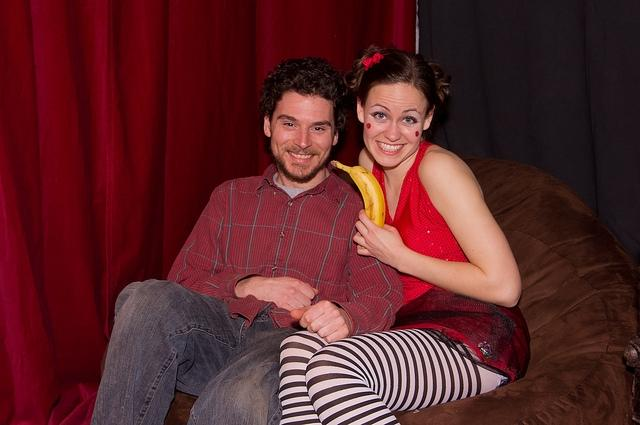banana: (330, 161, 386, 248)
